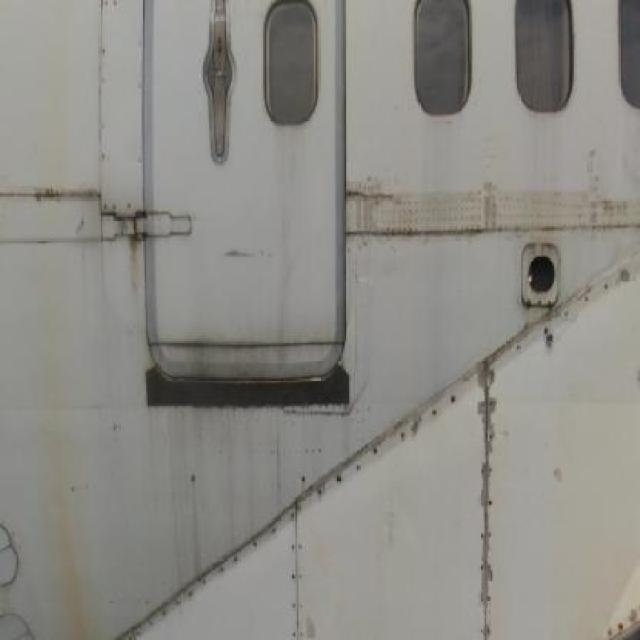Missing-Rivet: (119, 501, 286, 640), (313, 390, 476, 504), (92, 0, 156, 220), (511, 266, 640, 371), (471, 334, 506, 640), (284, 478, 316, 640)
Rust: (34, 372, 106, 640), (112, 237, 151, 306)
Scartch: (4, 174, 154, 243)
